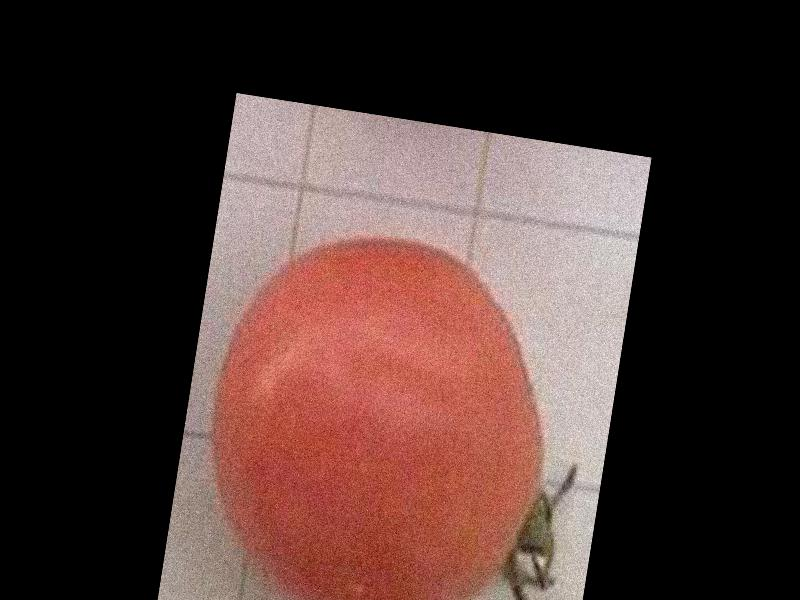Tomato: (182, 216, 574, 600)
